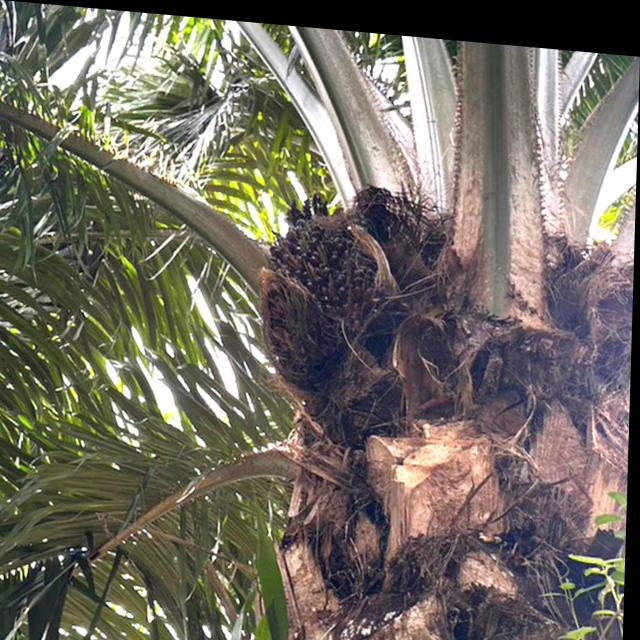unripe: (247, 197, 395, 391)
